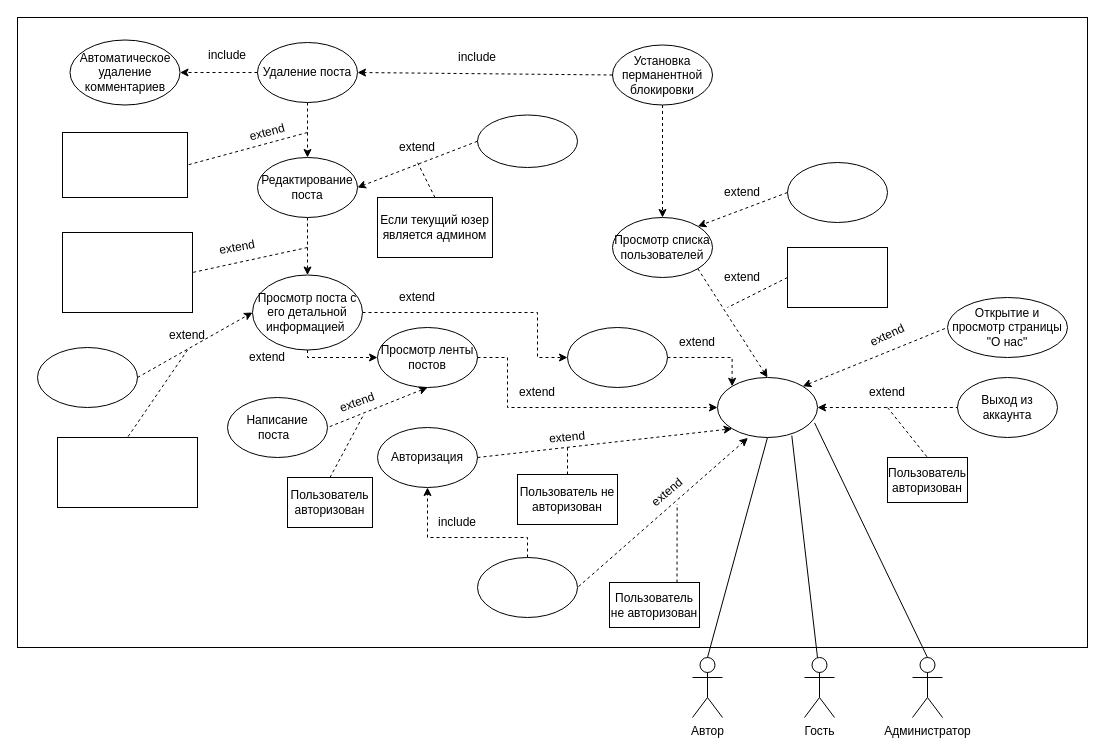
The diagram is 1105 pixels wide and 756 high, and some of its shapes have lost their labels. Each missing label, with the centre of its shape:
"Написание комментария" belongs at (87,377).
"Нет комментариев к посту или текущий пользователь - админ" belongs at (125,165).
"Переход на главную страницу" belongs at (767,407).
"Пользователь является админом" belongs at (837,277).
"Пост создан текущим авторизованный пользователем или текущий юзер - админ" belongs at (127,272).
"Просмотр последних 10 постов" belongs at (617,357).
"Регистрация" belongs at (527,587).
"Текущий пользователь не является автором поста или пишет ответ" belongs at (127,472).
"Удаление комментариев" belongs at (527,141).
"Установка временной блокировки" belongs at (837,192).
